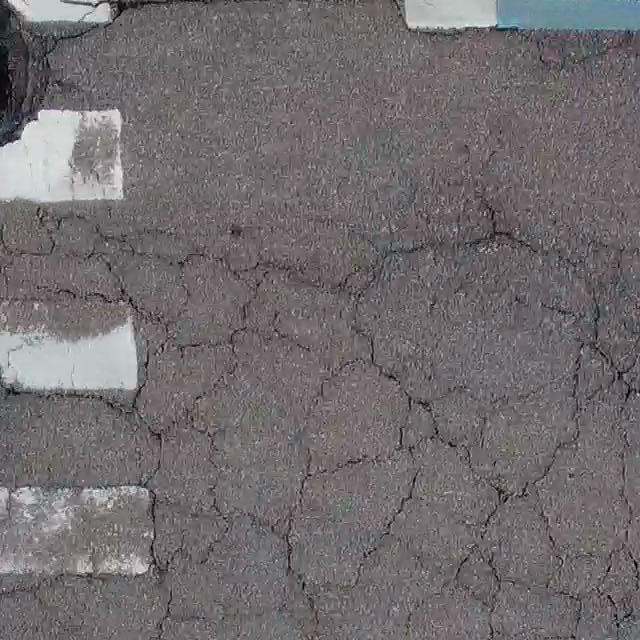GRIETA: (390, 0, 639, 71), (0, 568, 145, 598), (475, 126, 504, 219), (0, 481, 136, 491)
PIEL DE COCODRILO: (0, 199, 639, 639), (0, 0, 189, 144)
